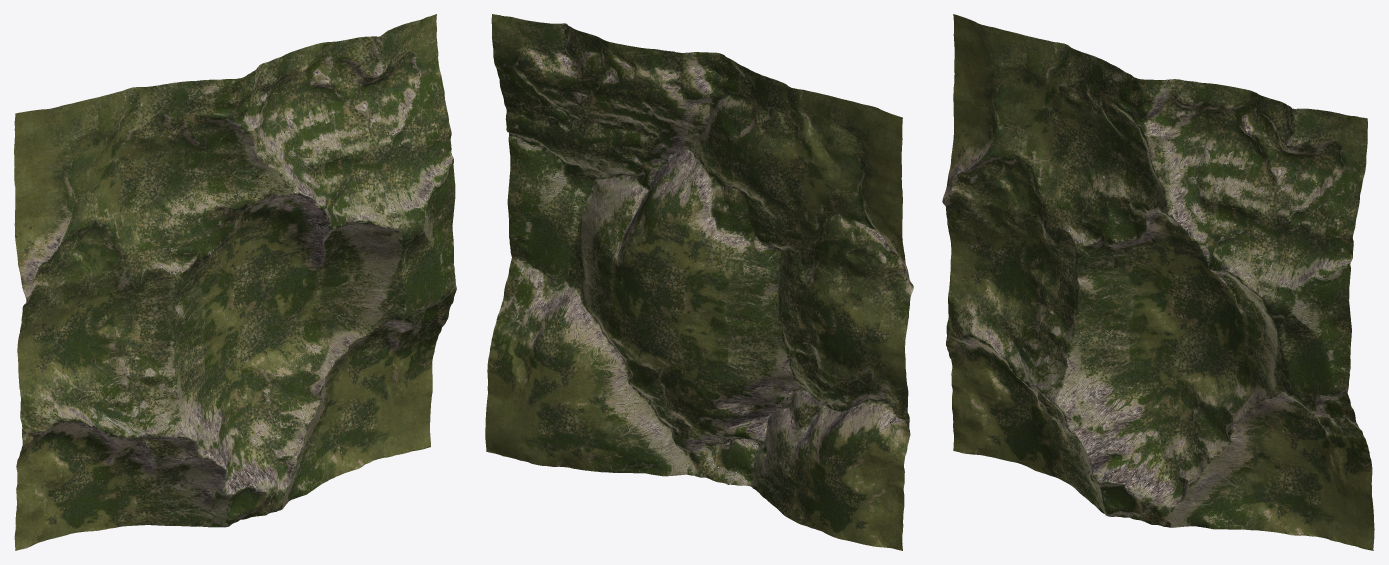
The model's file is arrow2.glb.
3 renders of one model, left to right at view 1: azimuth 30°, elevation 25°; view 2: azimuth 150°, elevation 25°; view 3: azimuth 330°, elevation 25°, orthographic.
Visible parts, largest first — view 1: Object_2; view 2: Object_2; view 3: Object_2.
Boxes of the visible parts, left/top/right/bottom form: Object_2: left=14, top=14, right=456, bottom=550; Object_2: left=485, top=14, right=913, bottom=550; Object_2: left=942, top=14, right=1374, bottom=550.
Bounding box in the file's own units: 1000 × 1000 × 177.
1 material, 1 textured.
